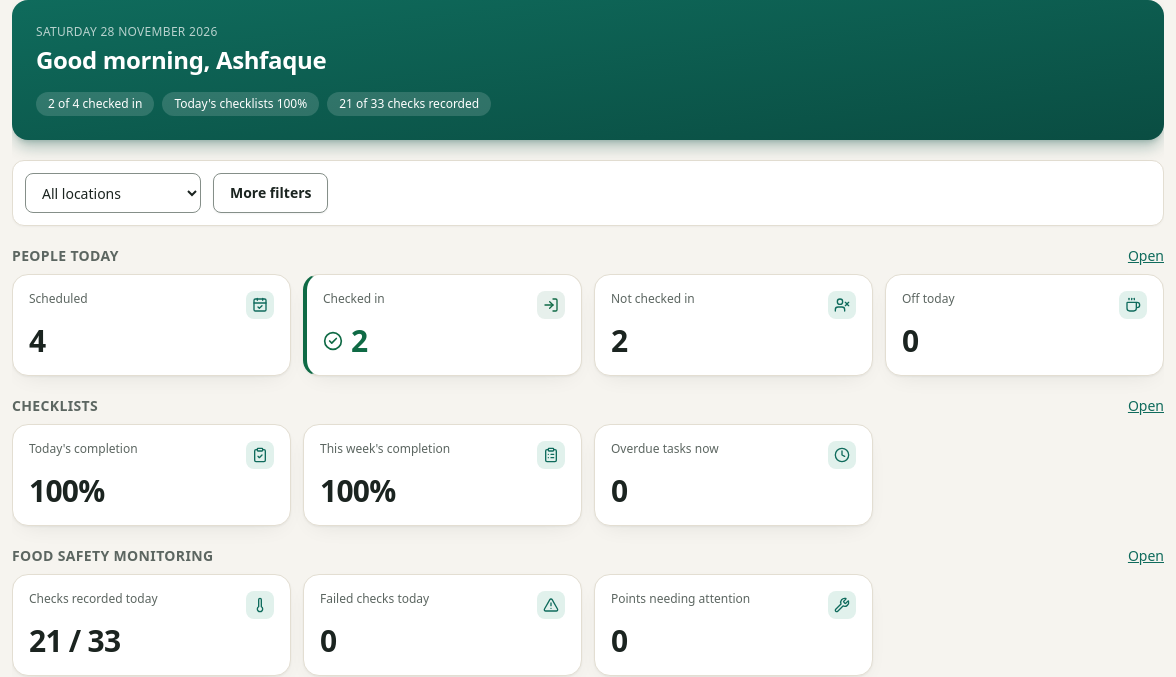
Test: ManagerDashboard tidy layout › keeps the date and status filters behind a button until they are wanted
The image size is (1176, 677).
Click the button "More filters" at (271, 193), box top-left (213, 173), bottom-right (328, 213)
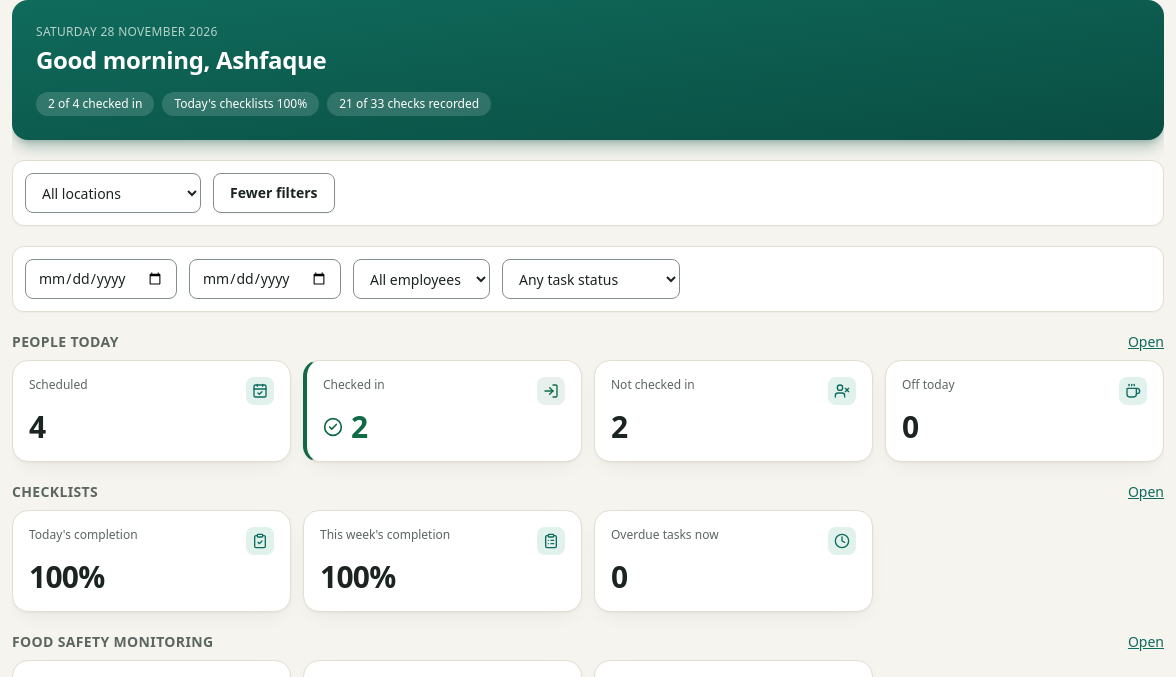
Now the date field named "From date" is shown, box top-left (25, 259), bottom-right (177, 299)
